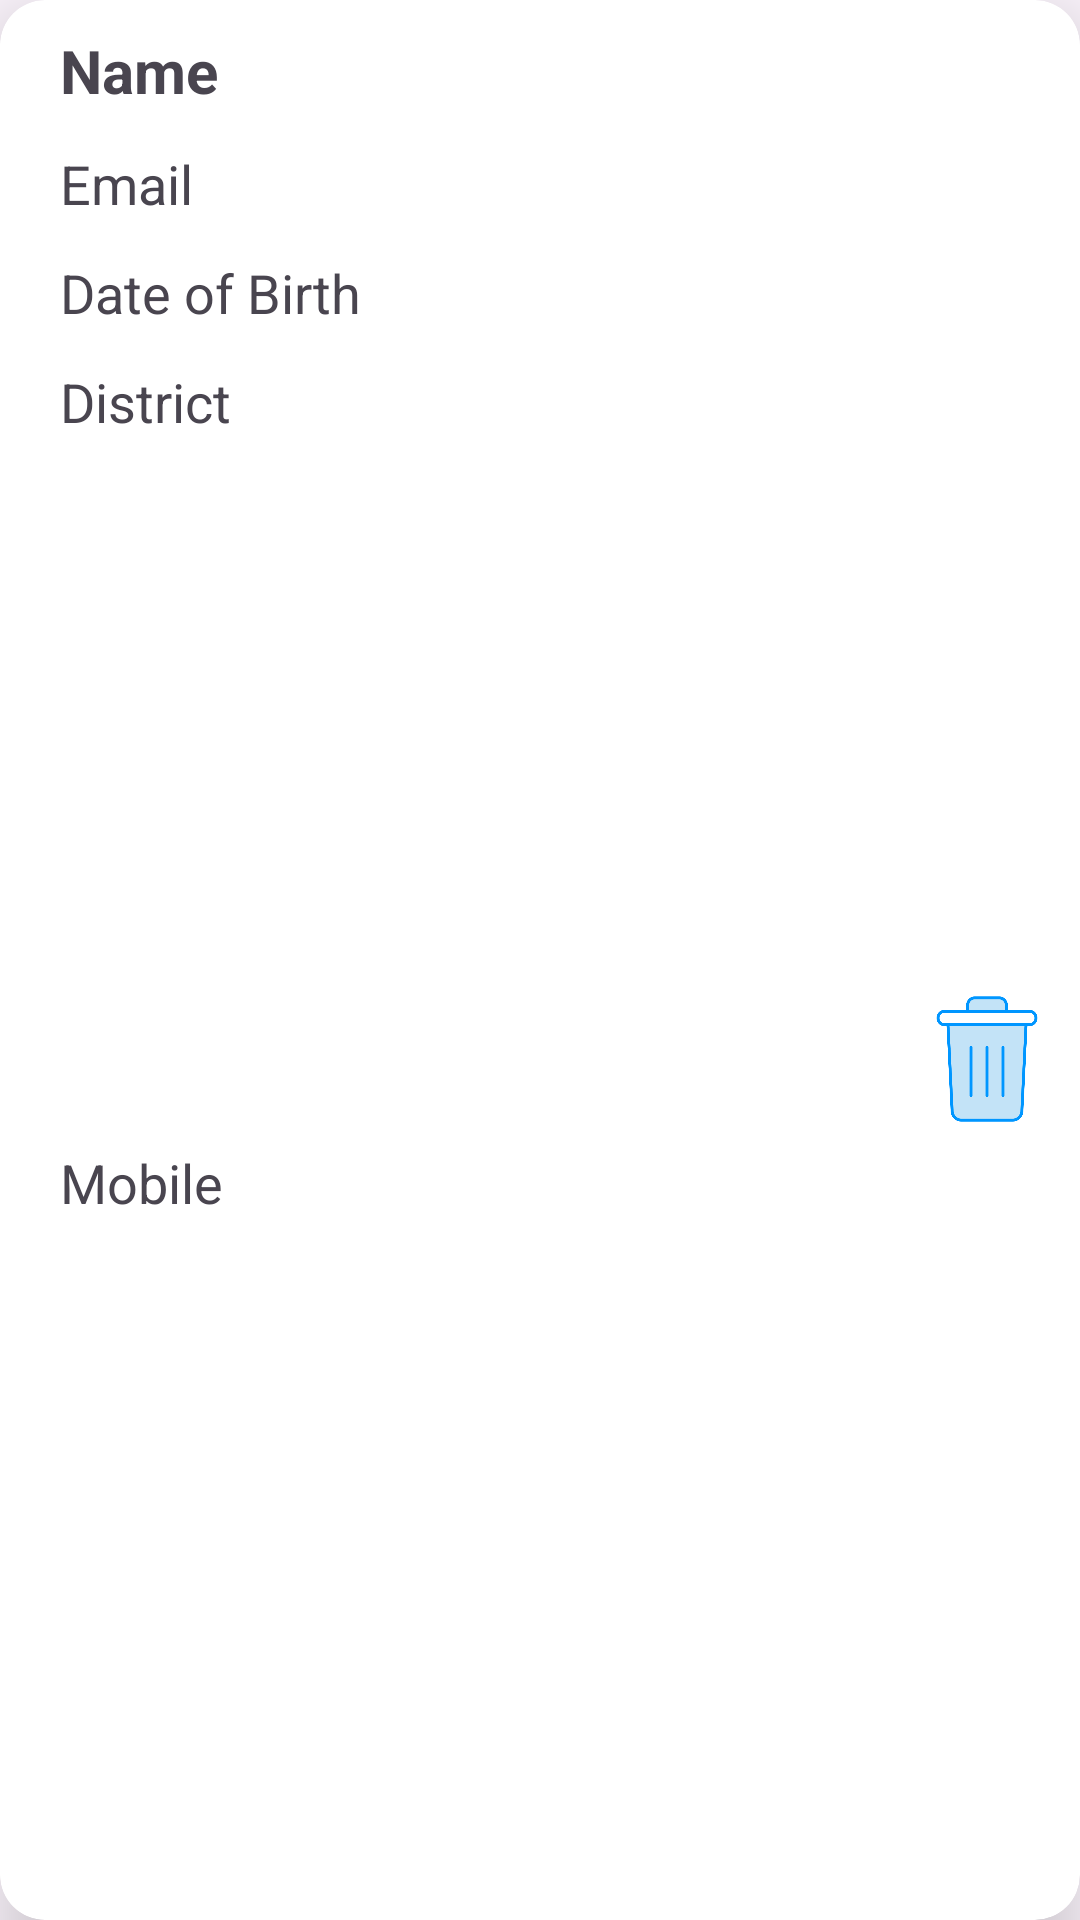

Icons on this 1080px x 1920px Android screen, each with its box as [left=x1, top=y1, right=x2, bottom=y2]:
trash: [left=936, top=996, right=1038, bottom=1122]
